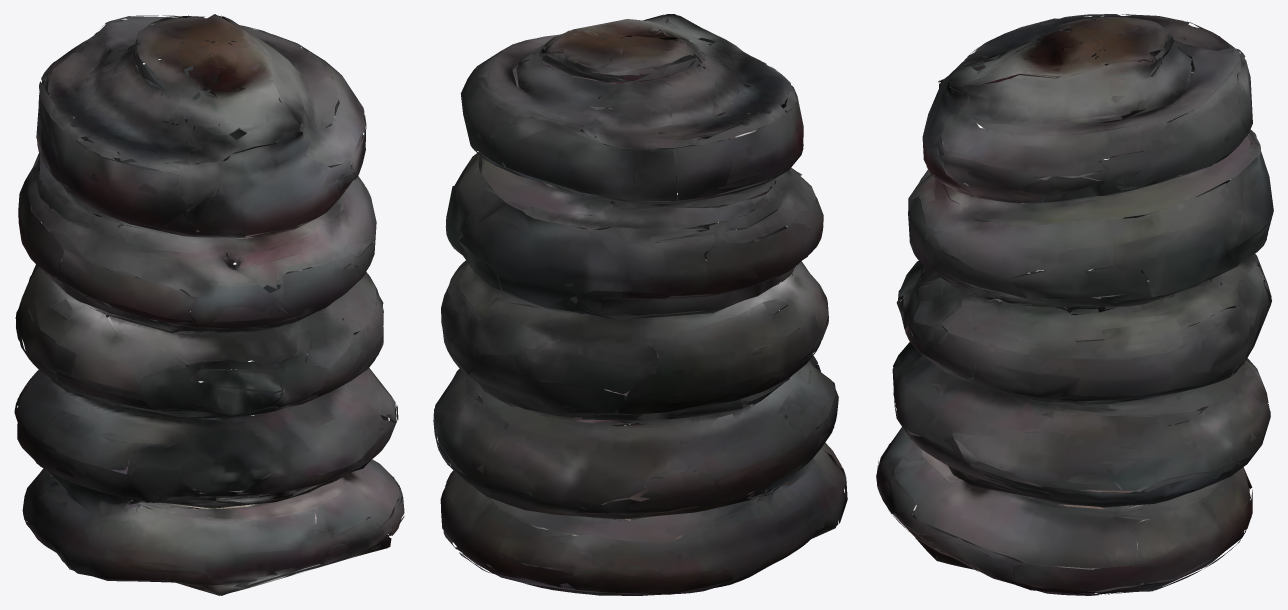
The model's file is mygeeto-disc-tower.lo.glb.
3 views of the same model, side by side, from view 1: azimuth 30°, elevation 25°; view 2: azimuth 150°, elevation 25°; view 3: azimuth 270°, elevation 25° (orthographic). The views are drawn at different scales.
Parts seen in each view (by area): view 1: low; view 2: low; view 3: low.
Part boxes in pixels (left/top/right/bottom): low: left=14, top=14, right=404, bottom=595; low: left=433, top=14, right=847, bottom=595; low: left=876, top=14, right=1273, bottom=595.
Bounding box in the file's own units: 0.5951 × 0.8337 × 0.6124.
1 material, 1 textured.
